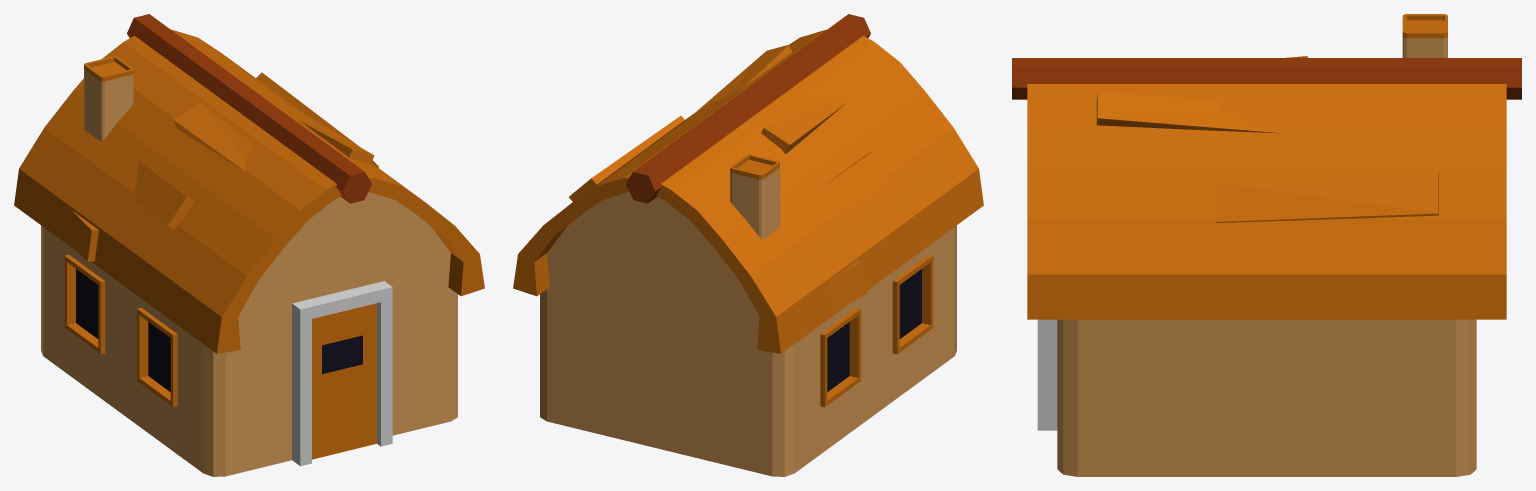
File: Yellow_House.fbx
3 views of the same model, side by side, from view 1: azimuth 30°, elevation 25°; view 2: azimuth 150°, elevation 25°; view 3: azimuth 270°, elevation 25° (orthographic). The views are drawn at different scales.
Parts seen in each view (by area): view 1: House yellow.001; view 2: House yellow.001; view 3: House yellow.001.
Part boxes in pixels (box(x1,y1,x2,y2)): House yellow.001: box(14, 14, 484, 476); House yellow.001: box(513, 14, 983, 476); House yellow.001: box(1012, 14, 1521, 476).
Size of the model in its own units: 124 by 124 by 168.
